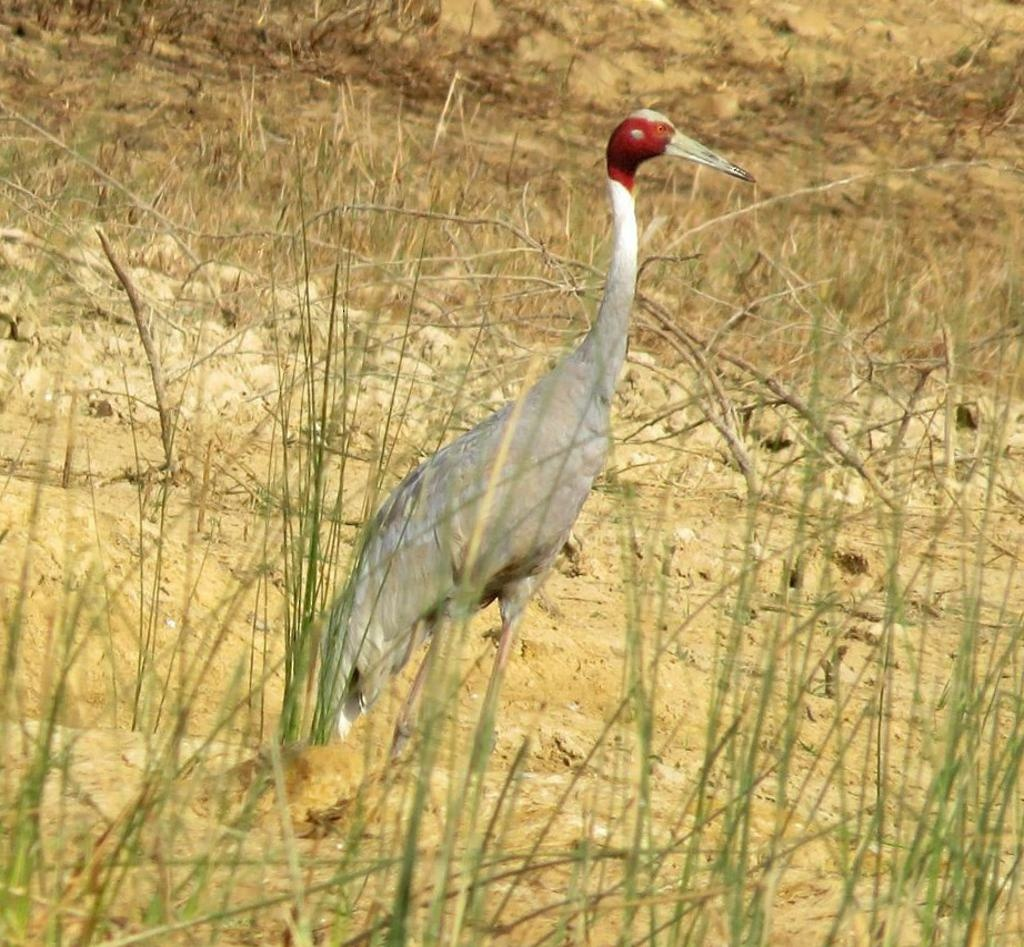crane: (289, 98, 756, 780)
